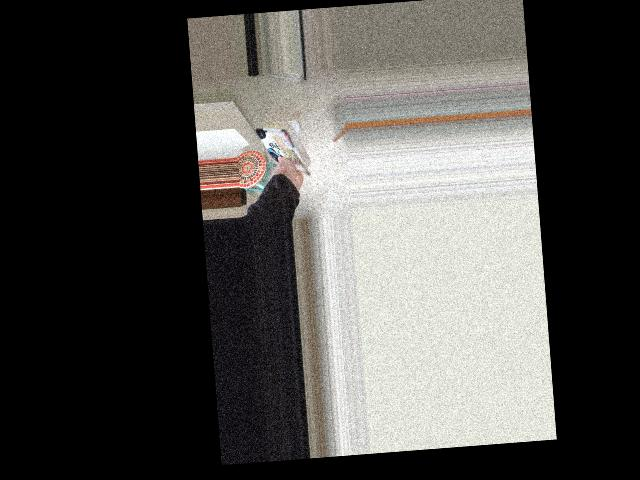cheese: (245, 117, 319, 193)
